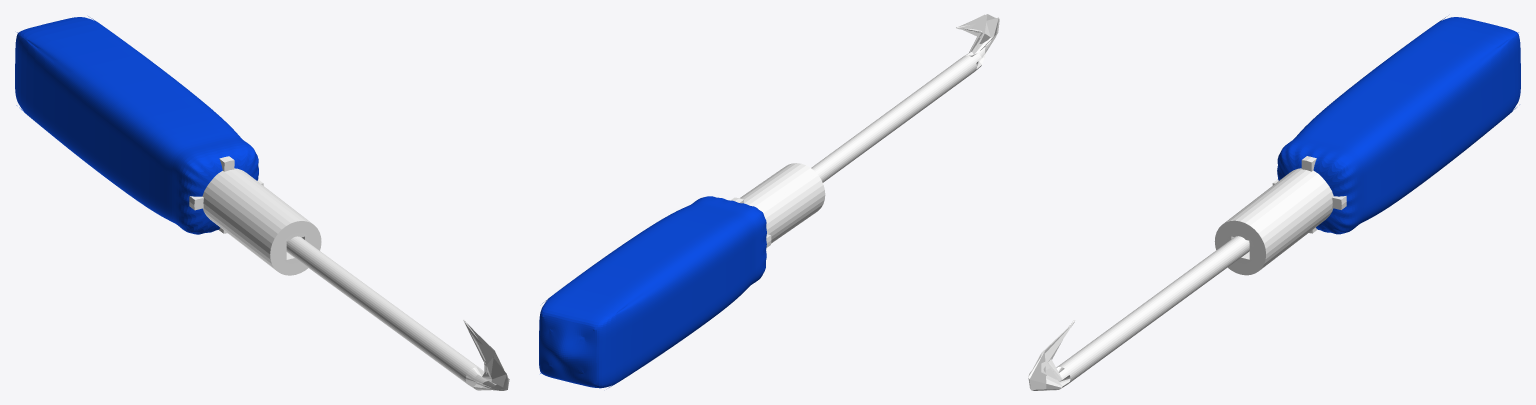
Rendered from Screwdriver-hook.fbx.
3 renders of one model, left to right at view 1: azimuth 30°, elevation 25°; view 2: azimuth 150°, elevation 25°; view 3: azimuth 330°, elevation 25°, orthographic. The views are drawn at different scales.
Parts seen in each view (by area): view 1: Handle, Tip holder, Hook Bit; view 2: Handle, Hook Bit, Tip holder; view 3: Handle, Tip holder, Hook Bit.
Part boxes in pixels (x1=…): Handle: x1=15, y1=16, x2=258, y2=234; Tip holder: x1=189, y1=156, x2=321, y2=275; Hook Bit: x1=286, y1=236, x2=509, y2=390; Handle: x1=539, y1=196, x2=766, y2=388; Hook Bit: x1=811, y1=14, x2=999, y2=182; Tip holder: x1=730, y1=163, x2=825, y2=247; Handle: x1=1277, y1=17, x2=1520, y2=234; Tip holder: x1=1214, y1=156, x2=1346, y2=275; Hook Bit: x1=1028, y1=236, x2=1249, y2=390.
Bounding box in the file's own units: 102 × 104 × 986.
